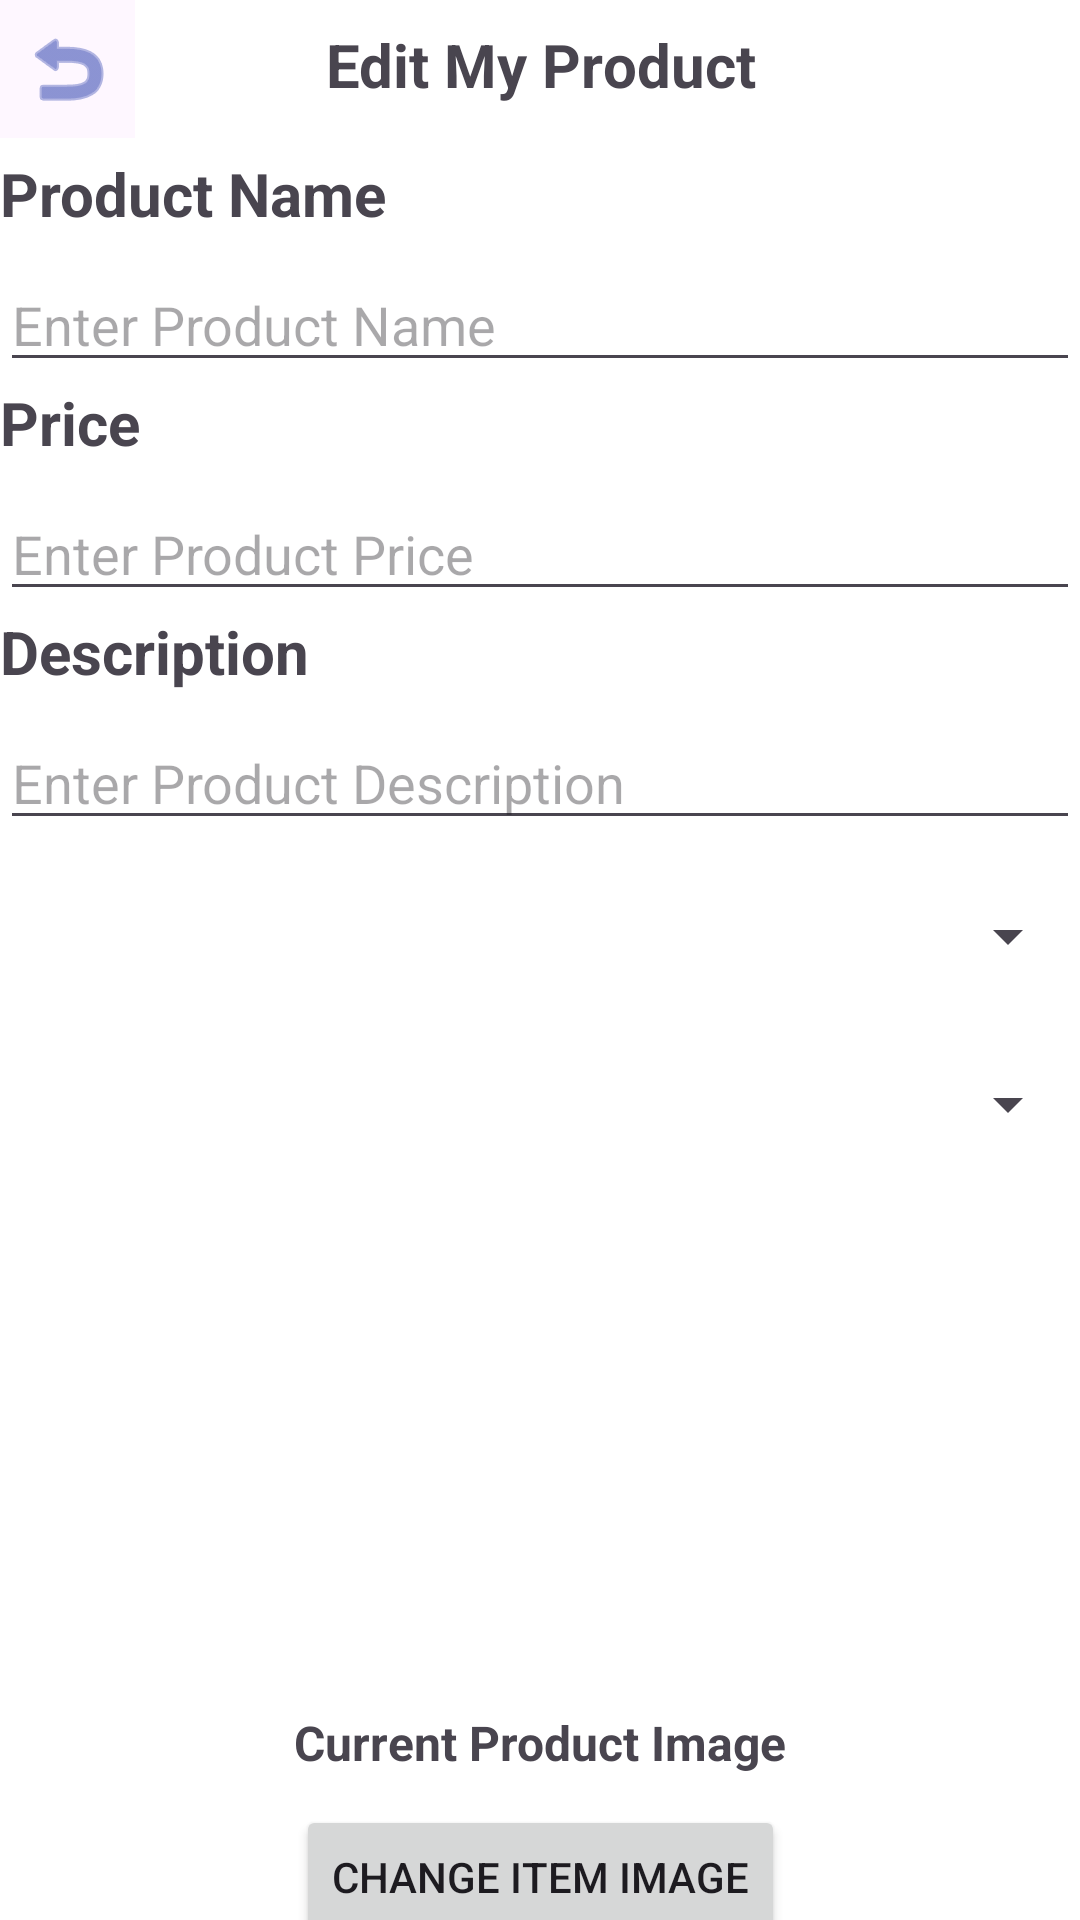

Icons on this 1080 × 1920 Android screen, each with the point to tap as (x=x, y=y):
Return Home: (x=69, y=69)
